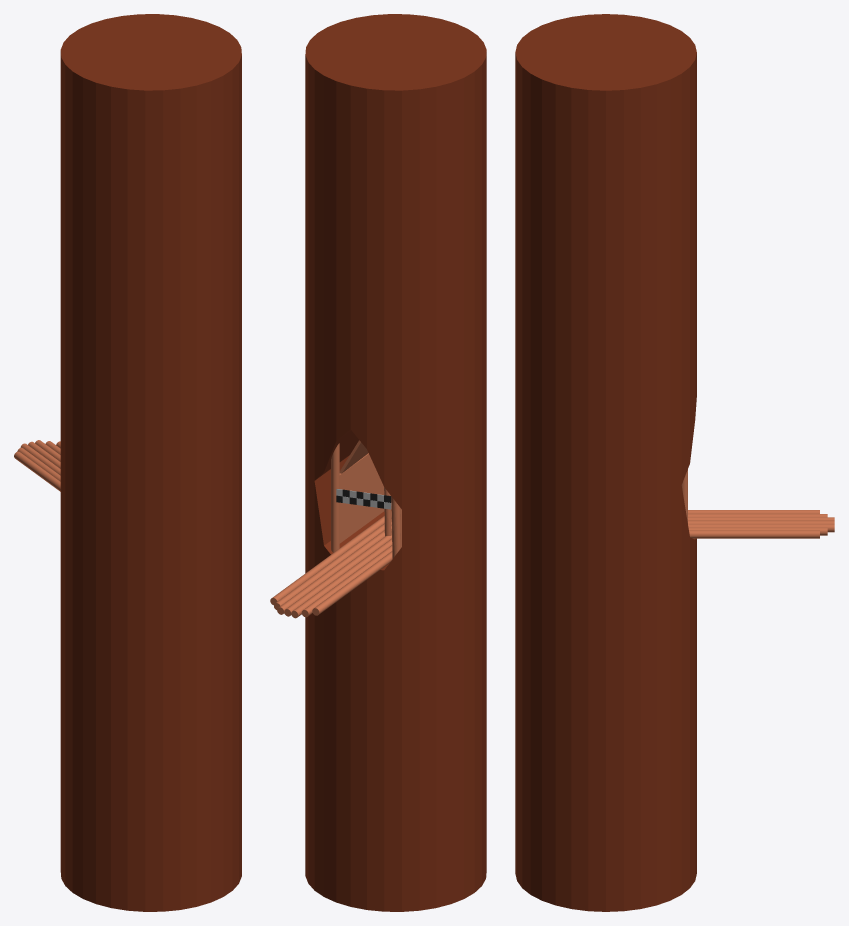
File: LargeTreeMidPieceWithPortal.fbx
3 views of the same model, side by side, from view 1: azimuth 30°, elevation 25°; view 2: azimuth 150°, elevation 25°; view 3: azimuth 270°, elevation 25° (orthographic).
Visible parts, largest first — view 1: Cube.011; view 2: Cube.011; view 3: Cube.011.
Boxes of the visible parts, bbox=[...] form: Cube.011: bbox=[14, 14, 241, 911]; Cube.011: bbox=[270, 14, 486, 911]; Cube.011: bbox=[515, 14, 834, 911].
Bounding box in the file's own units: 5691 × 28398 × 10007.
4 materials, 4 textured.
